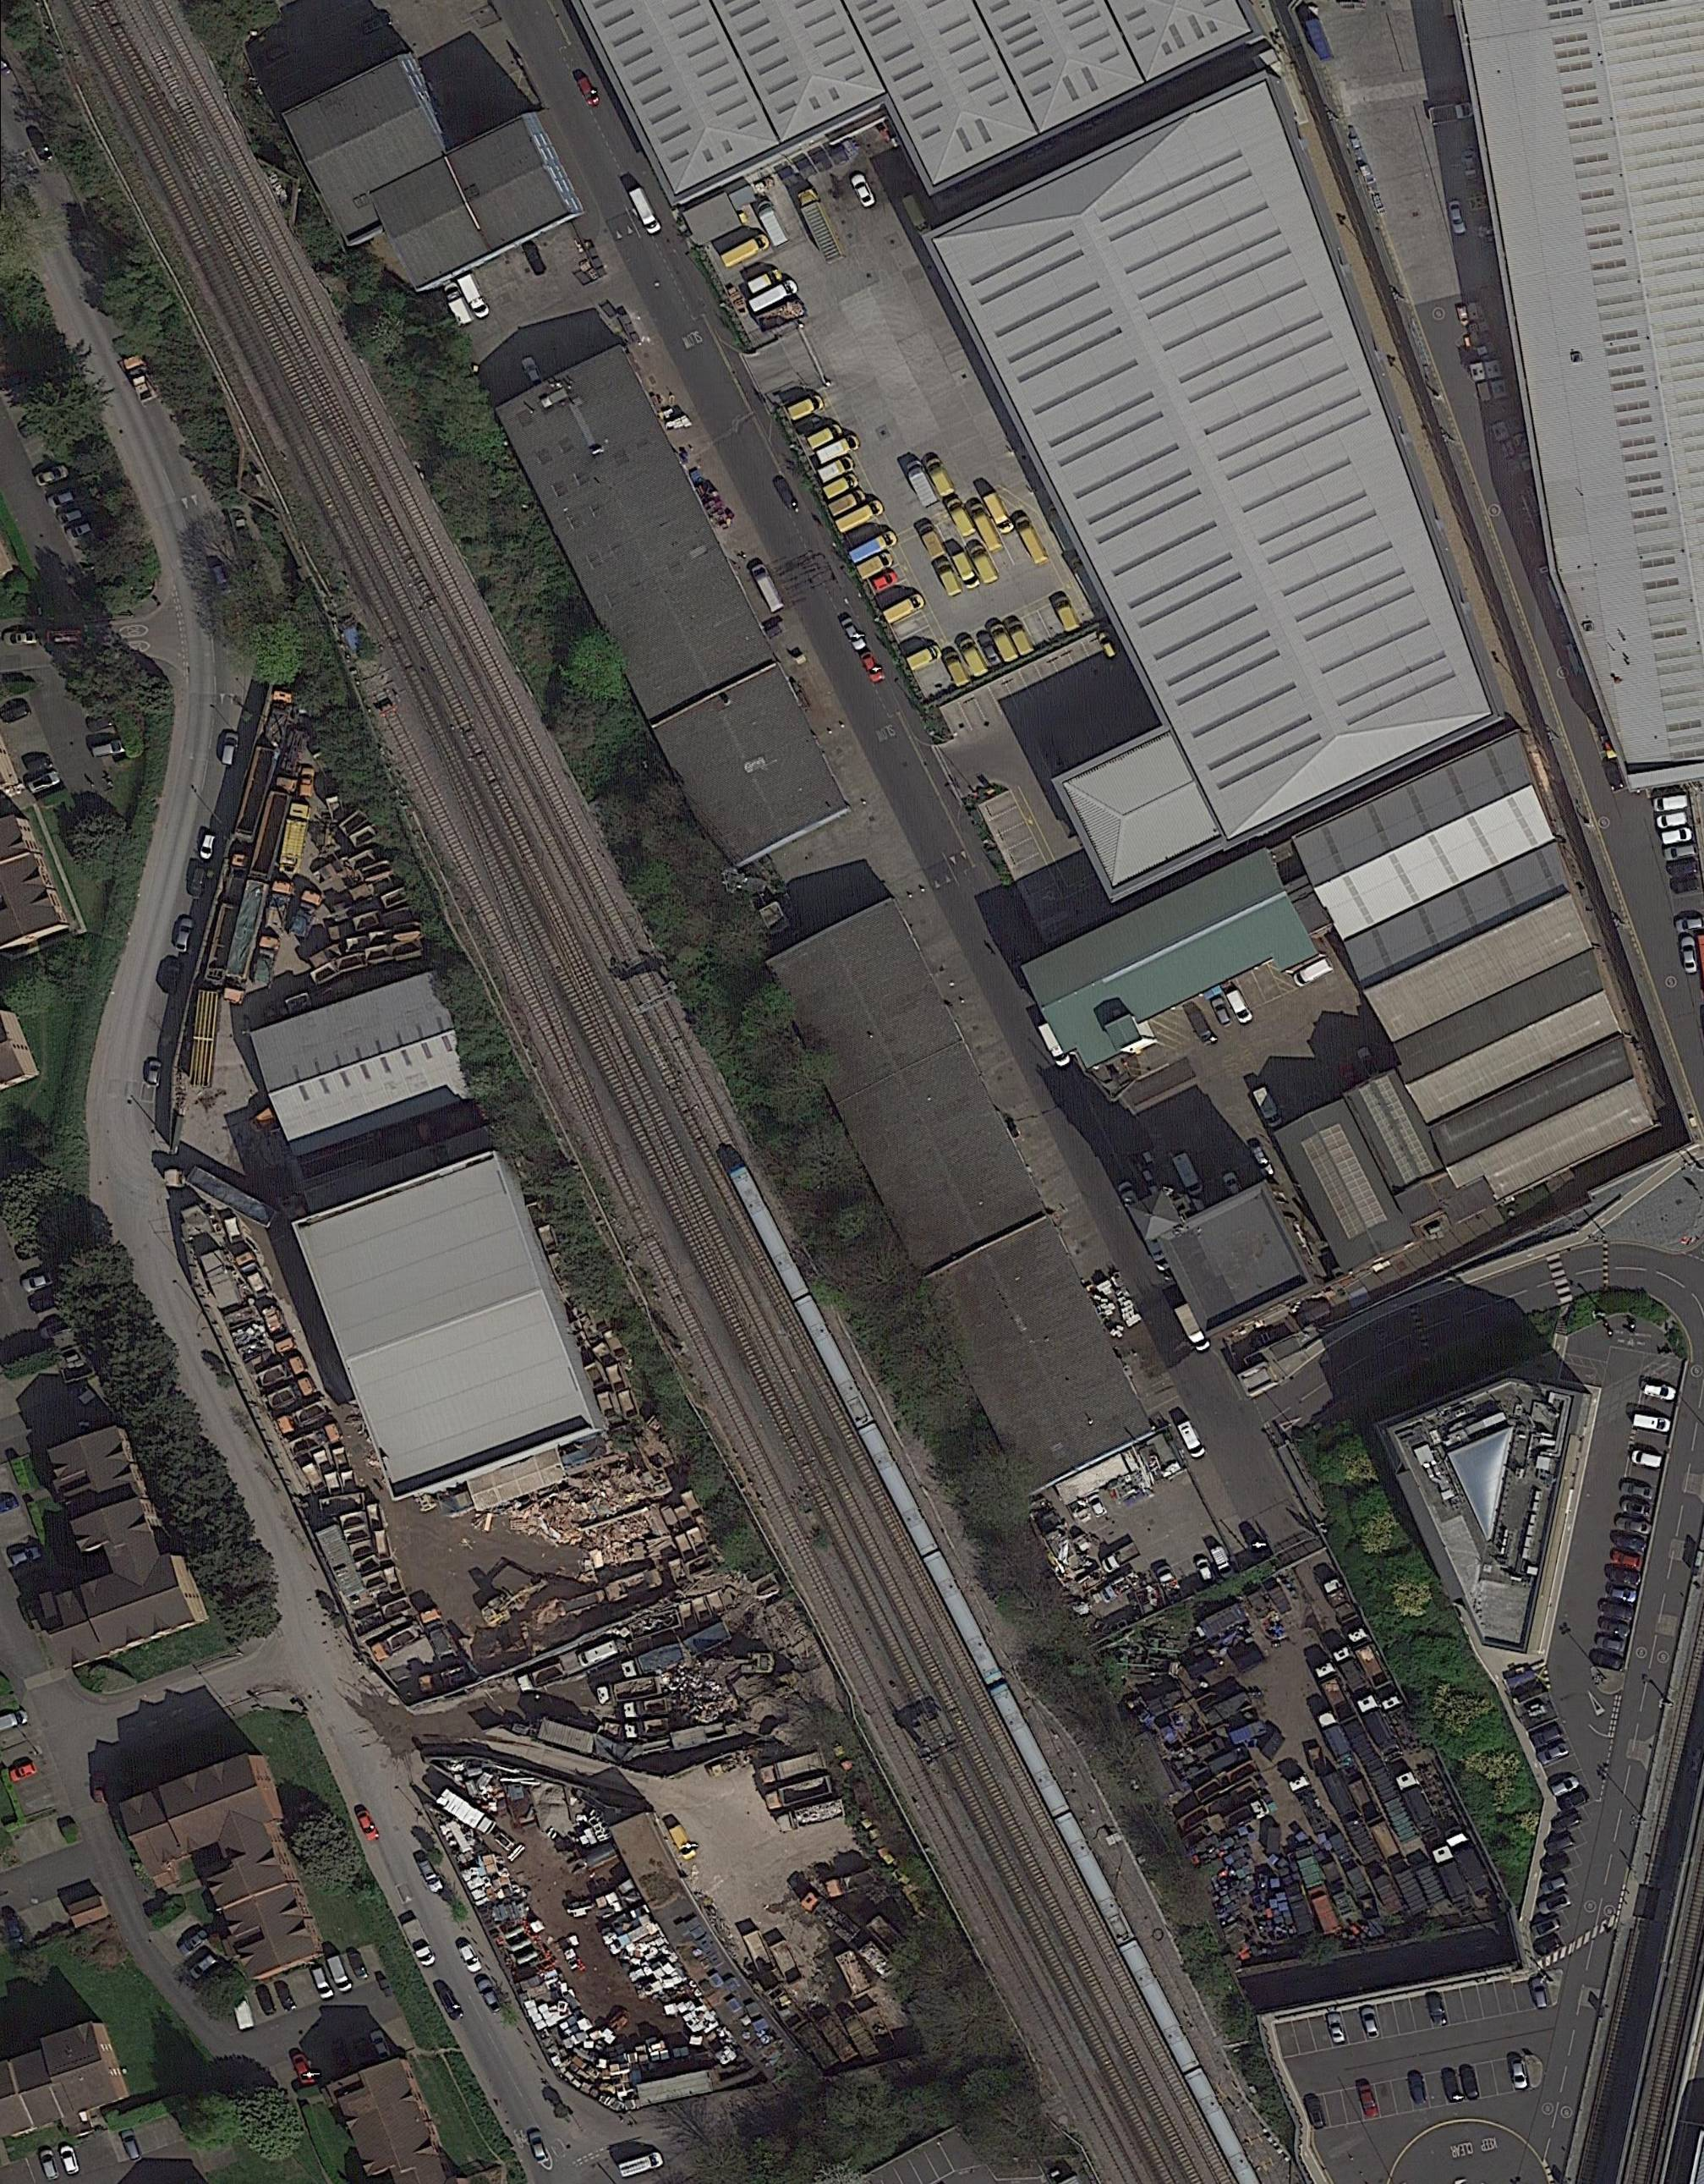large vehicle: (222, 879, 271, 1005), (245, 773, 300, 883), (796, 184, 849, 268), (800, 1888, 864, 1946), (433, 1787, 498, 1837), (1312, 1659, 1360, 1727), (1346, 1626, 1394, 1691), (1445, 1831, 1493, 1895), (1287, 1773, 1335, 1837), (1381, 1691, 1427, 1757), (775, 1796, 848, 1837), (759, 1748, 828, 1790), (1356, 1693, 1403, 1757), (762, 1774, 837, 1814), (1395, 1767, 1438, 1835), (369, 1620, 427, 1666), (622, 1642, 688, 1682), (1429, 1844, 1472, 1906), (1317, 1709, 1358, 1773), (965, 496, 1007, 555), (285, 1422, 346, 1463), (418, 1604, 459, 1665), (275, 1399, 333, 1439), (603, 1567, 663, 1606), (1172, 1299, 1215, 1354), (1332, 1645, 1374, 1700), (1216, 1796, 1273, 1837), (598, 1673, 665, 1707), (259, 1301, 298, 1358), (718, 230, 775, 269), (833, 496, 887, 537), (262, 1374, 317, 1413), (750, 558, 787, 615), (234, 1248, 275, 1299), (261, 688, 294, 750), (903, 456, 942, 509), (261, 879, 296, 938), (846, 528, 899, 567), (1321, 1574, 1360, 1627), (1014, 514, 1051, 569), (403, 1916, 440, 1971), (553, 1587, 610, 1622), (825, 1865, 881, 1900), (255, 1354, 309, 1392), (287, 886, 324, 940), (746, 278, 800, 316), (457, 271, 495, 323), (629, 184, 665, 238), (415, 1665, 473, 1697), (280, 801, 312, 860), (440, 278, 477, 328), (755, 199, 791, 250), (250, 932, 282, 989), (982, 488, 1018, 537), (814, 431, 864, 466), (879, 592, 929, 628), (516, 1661, 567, 1695), (917, 518, 952, 564), (943, 493, 979, 539), (958, 635, 993, 681), (220, 853, 250, 906), (1099, 1539, 1142, 1576), (1154, 1564, 1190, 1608), (968, 541, 1002, 587), (667, 1821, 700, 1867), (617, 2149, 667, 2179), (950, 548, 984, 592), (924, 456, 958, 500), (940, 645, 973, 690), (576, 1638, 622, 1670), (1005, 615, 1037, 661), (1291, 957, 1337, 989), (805, 418, 846, 454), (1176, 1418, 1209, 1461), (989, 620, 1021, 665), (816, 454, 858, 486), (855, 550, 897, 581), (934, 557, 965, 601), (1050, 596, 1083, 635), (786, 392, 826, 424), (745, 266, 786, 298), (826, 488, 867, 519), (1427, 99, 1475, 126), (326, 1952, 355, 1996), (1099, 1572, 1137, 1606), (622, 1697, 672, 1721), (821, 472, 862, 502), (904, 642, 945, 672), (1223, 986, 1254, 1026), (229, 1991, 257, 2032), (1229, 1720, 1270, 1748), (624, 1718, 674, 1741), (1209, 1542, 1238, 1581), (310, 1962, 337, 2001), (1631, 1411, 1672, 1436), (1653, 794, 1688, 812), (1661, 826, 1693, 846), (1654, 812, 1688, 830), (1663, 844, 1699, 860)
small vehicle: (848, 170, 878, 209), (37, 2147, 62, 2184), (355, 1808, 381, 1842), (457, 1941, 484, 1973), (1356, 2083, 1380, 2118), (59, 2143, 82, 2179), (1537, 1741, 1569, 1766), (1679, 934, 1699, 973), (1209, 998, 1234, 1028), (1360, 2005, 1381, 2039), (1326, 2012, 1348, 2046), (1426, 1993, 1447, 2026), (1509, 2056, 1530, 2090), (1539, 1874, 1569, 1897), (1644, 1381, 1676, 1402), (1621, 1480, 1654, 1500), (9, 1760, 37, 1783), (1550, 1774, 1580, 1796), (1631, 1450, 1661, 1470), (1530, 1977, 1548, 2009), (199, 833, 216, 862)
